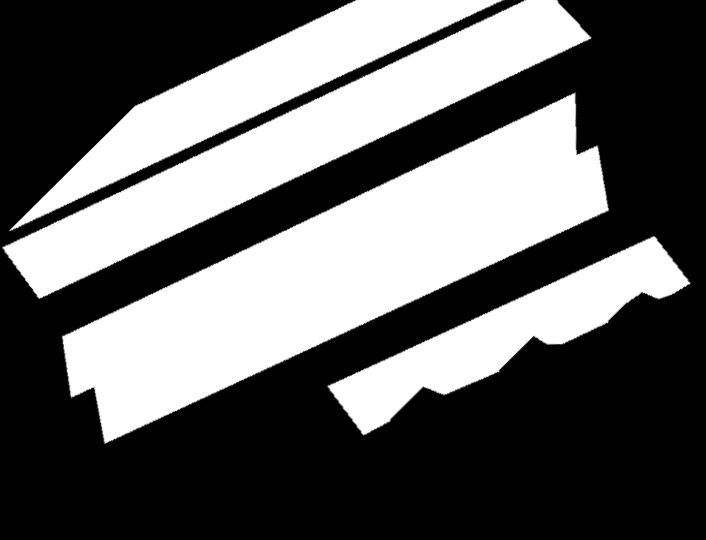parkingspot: (62, 93, 609, 444), (2, 0, 591, 299), (9, 0, 503, 231), (328, 236, 690, 435)
